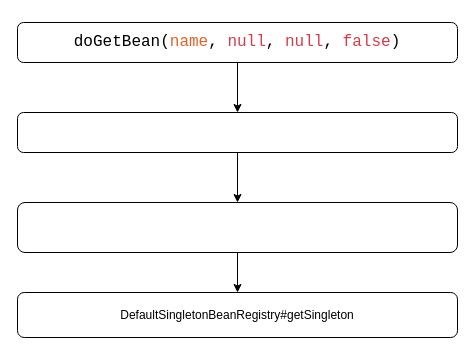
The diagram is 475 pixels wide and 355 high, and some of its shapes have lost their labels. Each missing label, with the box of its shape:
getSingleton ( beanName , true ): (16, 112, 458, 152)
markBeanAsCreated(beanName): (16, 202, 458, 252)
